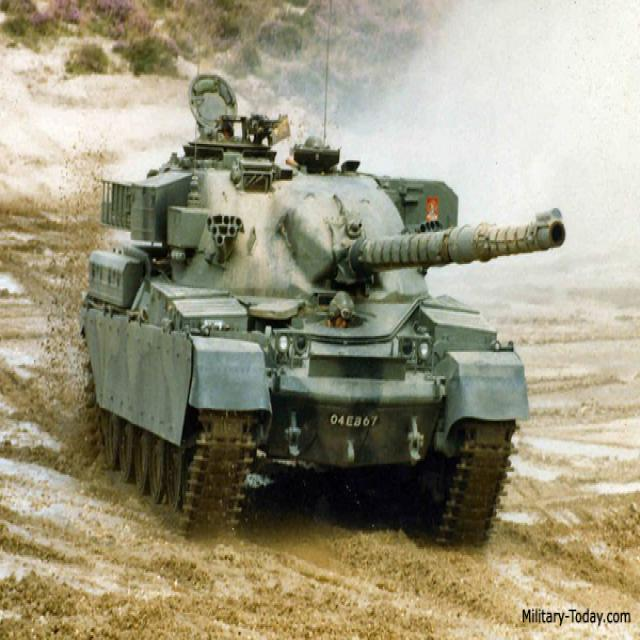Tank: (66, 94, 553, 552)
